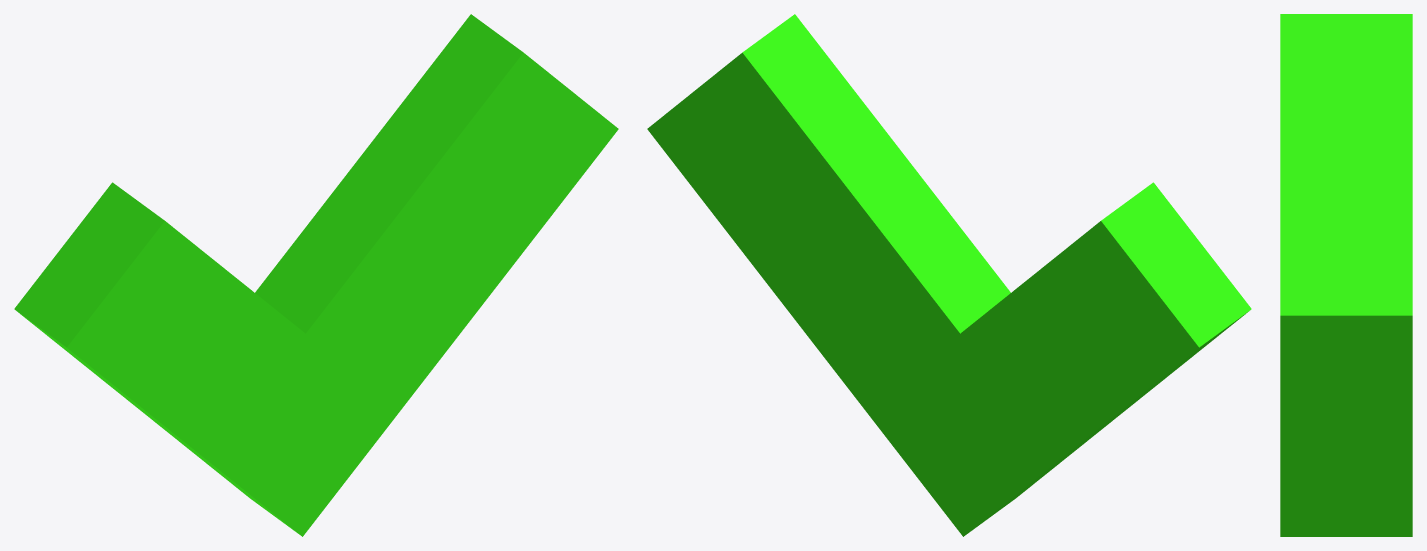
File: daulike.fbx
3 views of the same model, side by side, from view 1: azimuth 30°, elevation 25°; view 2: azimuth 150°, elevation 25°; view 3: azimuth 270°, elevation 25° (orthographic). The views are drawn at different scales.
Parts seen in each view (by area): view 1: daulike; view 2: daulike; view 3: daulike.
Part boxes in pixels (bbox=[...]): daulike: bbox=[14, 14, 618, 536]; daulike: bbox=[647, 14, 1251, 536]; daulike: bbox=[1280, 14, 1412, 536].
Size of the model in its own units: 27.39 by 20.41 by 4.52.
